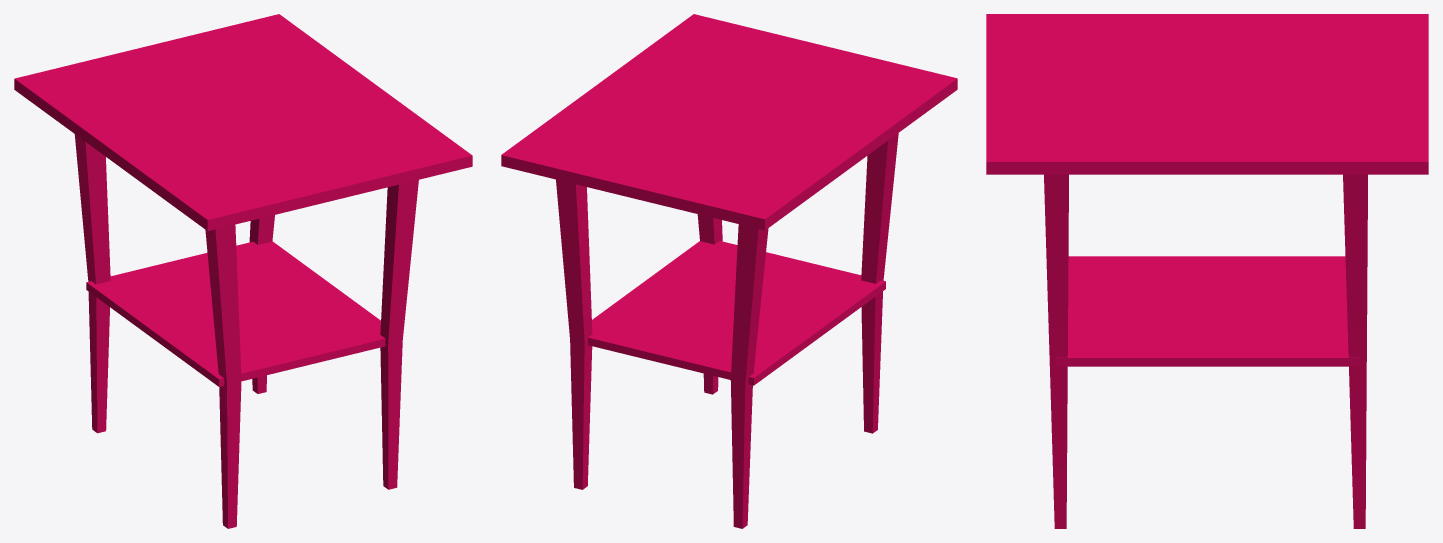
File: Small_Table_03_Lod0.fbx
3 renders of one model, left to right at view 1: azimuth 30°, elevation 25°; view 2: azimuth 150°, elevation 25°; view 3: azimuth 270°, elevation 25°, orthographic. The views are drawn at different scales.
Visible parts, largest first — view 1: Small_Table_03_Lod0; view 2: Small_Table_03_Lod0; view 3: Small_Table_03_Lod0.
Part boxes in pixels (bbox=[...]): Small_Table_03_Lod0: bbox=[14, 14, 472, 528]; Small_Table_03_Lod0: bbox=[501, 14, 957, 528]; Small_Table_03_Lod0: bbox=[986, 14, 1428, 528].
Bounding box in the file's own units: 53.28 × 65.93 × 67.35.
